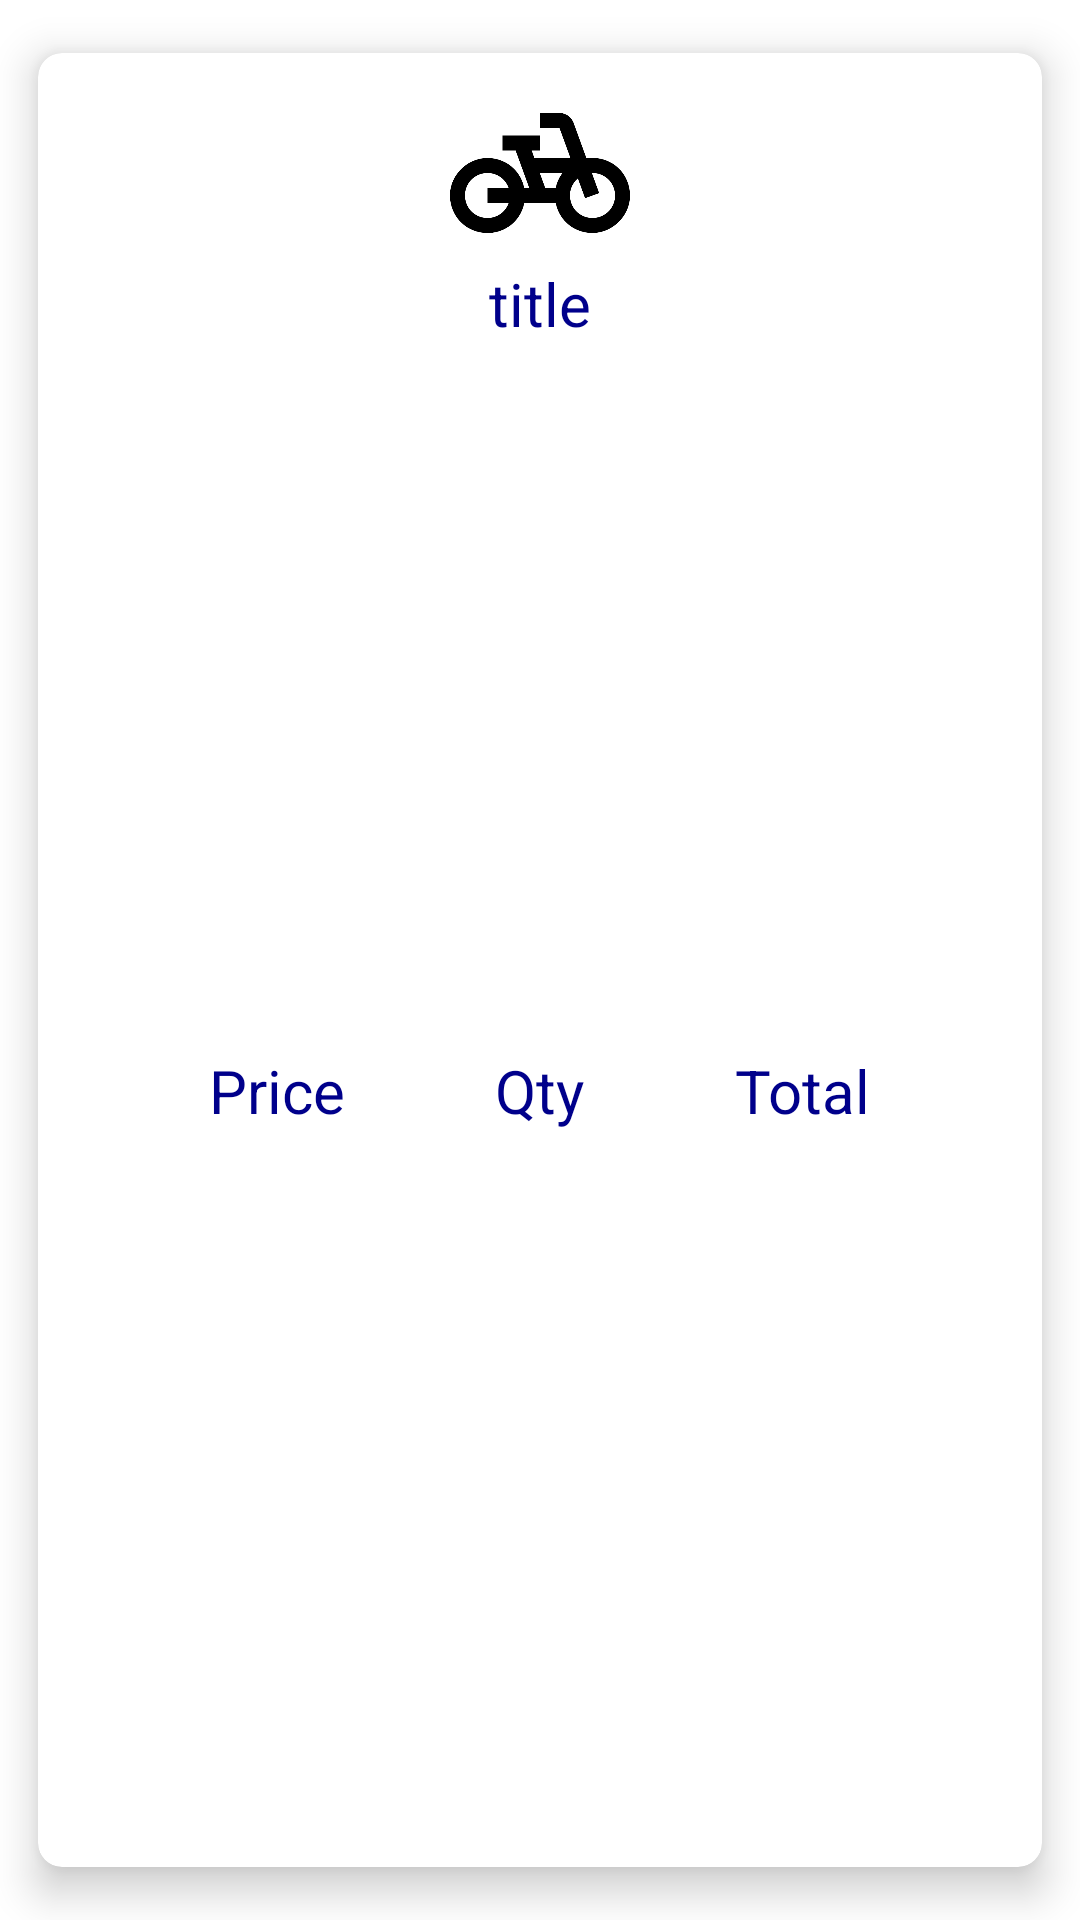

Icon click points for this 1080x1920 phone screenshot, format (x,y):
item image: (540,173)
